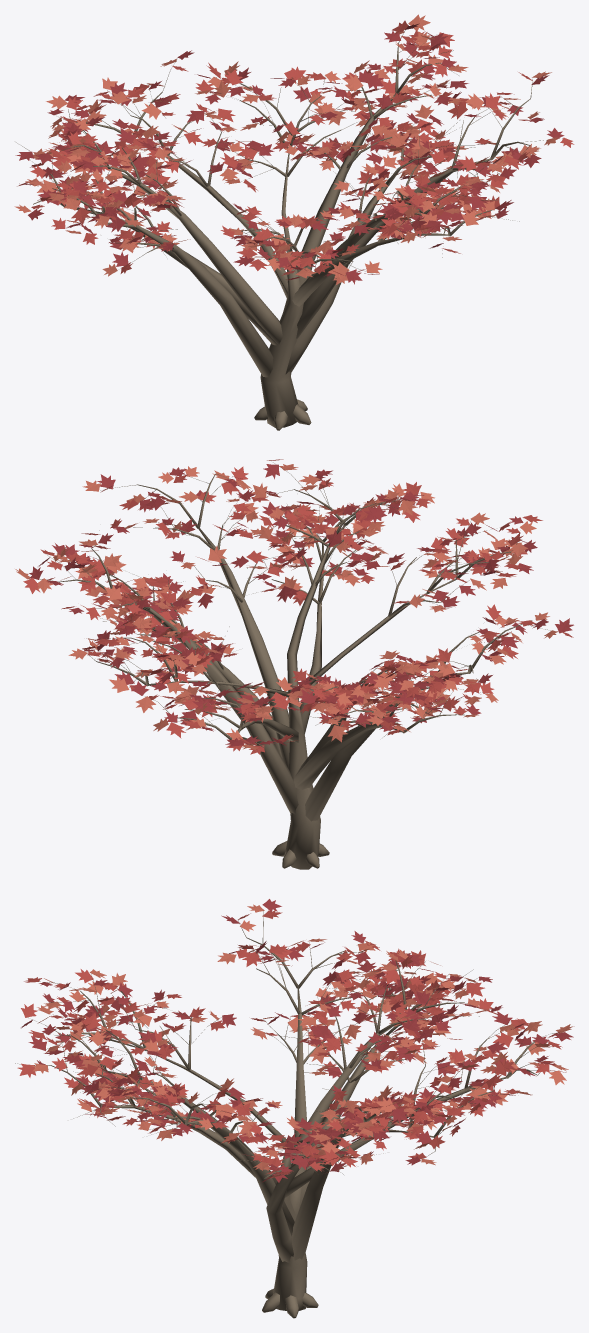
The model's file is maple.glb.
3 views of the same model, one above another, from view 1: azimuth 30°, elevation 25°; view 2: azimuth 150°, elevation 25°; view 3: azimuth 270°, elevation 25° (orthographic).
Visible parts, largest first — view 1: japanese_maple connected crown 3, japanese_maple connected crown 1, japanese_maple connected crown 2, japanese_maple irregular trunk, japanese_maple spreading bough 5, japanese_maple spreading bough 2, japanese_maple attached fine twigs, japanese_maple spreading bough 9, japanese_maple spreading bough 6, japanese_maple spreading bough 1, japanese_maple spreading bough 11, japanese_maple spreading bough 7 (+1 smaller); view 2: japanese_maple connected crown 3, japanese_maple connected crown 2, japanese_maple connected crown 1, japanese_maple irregular trunk, japanese_maple spreading bough 9, japanese_maple spreading bough 6, japanese_maple attached fine twigs, japanese_maple spreading bough 5, japanese_maple spreading bough 10, japanese_maple spreading bough 3, japanese_maple spreading bough 11, japanese_maple spreading bough 8 (+1 smaller); view 3: japanese_maple connected crown 2, japanese_maple connected crown 1, japanese_maple connected crown 3, japanese_maple attached fine twigs, japanese_maple spreading bough 9, japanese_maple irregular trunk, japanese_maple spreading bough 1, japanese_maple spreading bough 6, japanese_maple spreading bough 2, japanese_maple spreading bough 5, japanese_maple spreading bough 7, japanese_maple spreading bough 11 (+2 smaller).
Part boxes in pixels (<box>): japanese_maple connected crown 3: <box>14,14,559,284</box>; japanese_maple connected crown 1: <box>15,23,564,284</box>; japanese_maple connected crown 2: <box>17,20,574,278</box>; japanese_maple irregular trunk: <box>260,254,303,427</box>; japanese_maple spreading bough 5: <box>107,222,273,377</box>; japanese_maple spreading bough 2: <box>110,168,282,344</box>; japanese_maple attached fine twigs: <box>16,24,562,277</box>; japanese_maple spreading bough 9: <box>283,94,395,310</box>; japanese_maple spreading bough 6: <box>296,158,490,338</box>; japanese_maple spreading bough 1: <box>285,166,400,374</box>; japanese_maple spreading bough 11: <box>292,233,448,306</box>; japanese_maple spreading bough 7: <box>165,155,287,298</box>; japanese_maple connected crown 3: <box>15,464,557,750</box>; japanese_maple connected crown 2: <box>23,459,573,754</box>; japanese_maple connected crown 1: <box>29,464,573,746</box>; japanese_maple irregular trunk: <box>284,698,320,869</box>; japanese_maple spreading bough 9: <box>132,601,298,814</box>; japanese_maple spreading bough 6: <box>198,528,289,769</box>; japanese_maple attached fine twigs: <box>29,462,559,744</box>; japanese_maple spreading bough 5: <box>305,672,467,821</box>; japanese_maple spreading bough 10: <box>293,722,401,789</box>; japanese_maple spreading bough 3: <box>287,525,345,717</box>; japanese_maple spreading bough 11: <box>299,544,324,734</box>; japanese_maple spreading bough 8: <box>309,578,456,684</box>; japanese_maple connected crown 2: <box>17,910,566,1174</box>; japanese_maple connected crown 1: <box>21,899,573,1182</box>; japanese_maple connected crown 3: <box>30,904,574,1178</box>; japanese_maple attached fine twigs: <box>15,911,559,1178</box>; japanese_maple spreading bough 9: <box>292,1119,364,1260</box>; japanese_maple irregular trunk: <box>273,1152,307,1310</box>; japanese_maple spreading bough 1: <box>266,1164,299,1262</box>; japanese_maple spreading bough 6: <box>187,1120,294,1235</box>; japanese_maple spreading bough 2: <box>289,1025,393,1216</box>; japanese_maple spreading bough 5: <box>294,988,306,1137</box>; japanese_maple spreading bough 7: <box>285,1077,506,1197</box>; japanese_maple spreading bough 11: <box>113,1105,255,1177</box>.
Bounding box in the file's own units: 8.1 × 4.91 × 7.96.
Materials: 5 (5 with a texture image).
